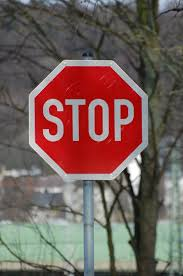stop: (24, 55, 156, 187)
